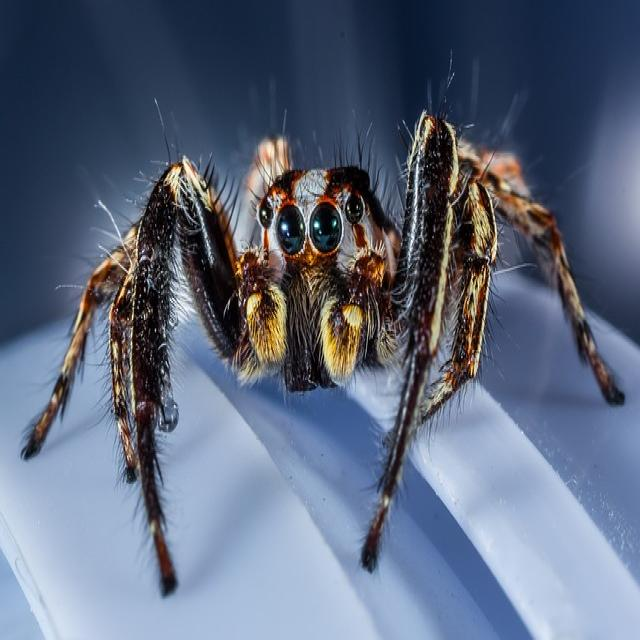spyder: (22, 112, 624, 595)
